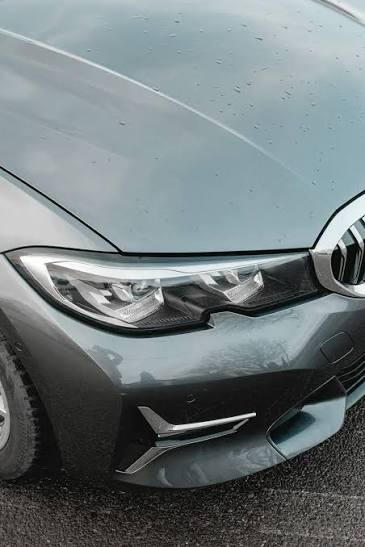car: (1, 177, 353, 502)
